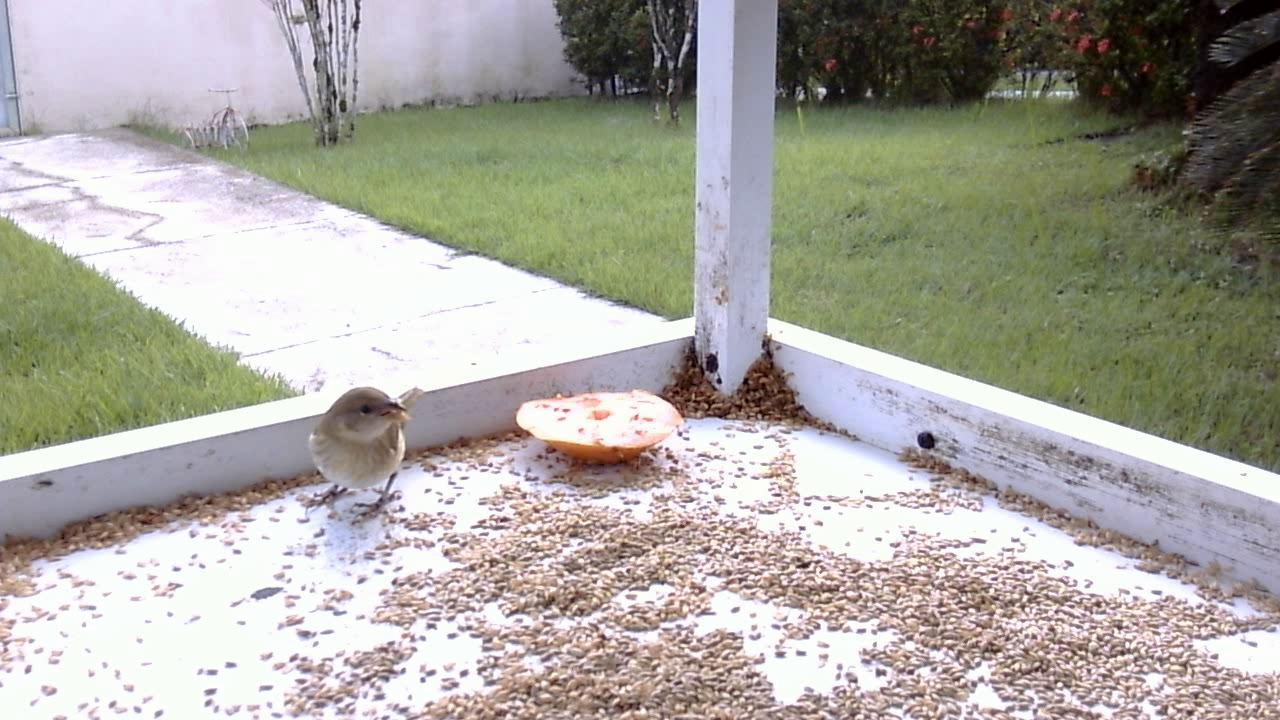canario_do_amazonas: (302, 376, 419, 526)
